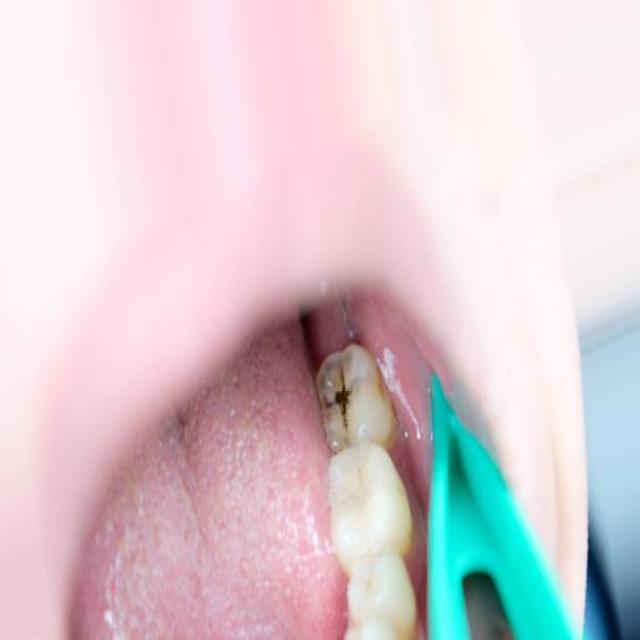caries: (318, 354, 369, 439)
